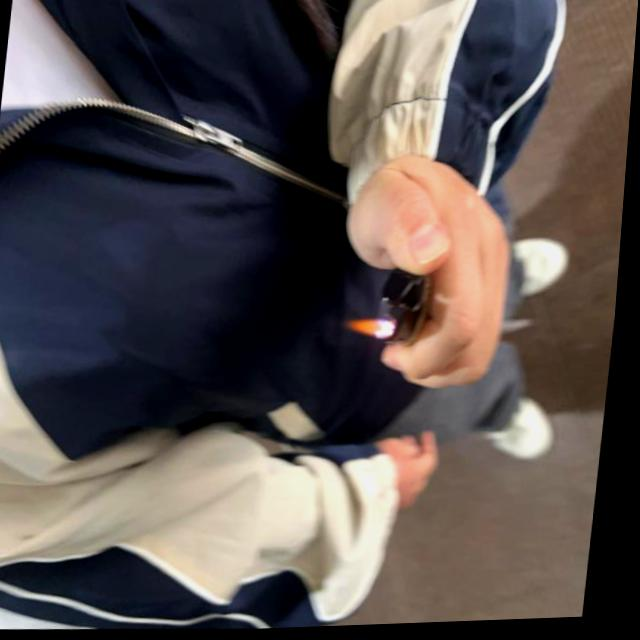helmet: (344, 320, 397, 346)
